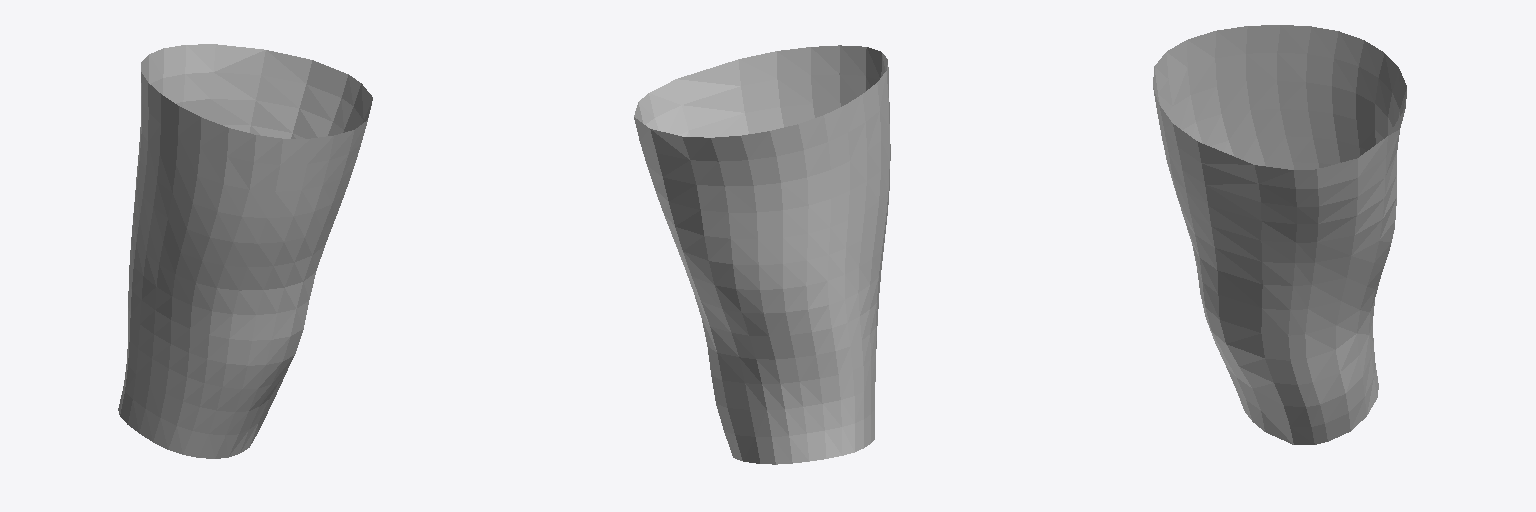
The model's file is RightHip.obj.
3 views of the same model, side by side, from view 1: azimuth 30°, elevation 25°; view 2: azimuth 150°, elevation 25°; view 3: azimuth 270°, elevation 25° (orthographic).
Visible parts, largest first — view 1: polySurface41 polySurface39 polySurface38 polySurface8 polySurfa; view 2: polySurface41 polySurface39 polySurface38 polySurface8 polySurfa; view 3: polySurface41 polySurface39 polySurface38 polySurface8 polySurfa.
Boxes of the visible parts, box(x1,y1,x2,y2) form: polySurface41 polySurface39 polySurface38 polySurface8 polySurfa: box(118, 44, 372, 458); polySurface41 polySurface39 polySurface38 polySurface8 polySurfa: box(634, 45, 890, 464); polySurface41 polySurface39 polySurface38 polySurface8 polySurfa: box(1153, 25, 1406, 444).
Size of the model in its own units: 8.22 by 12.95 by 8.07.